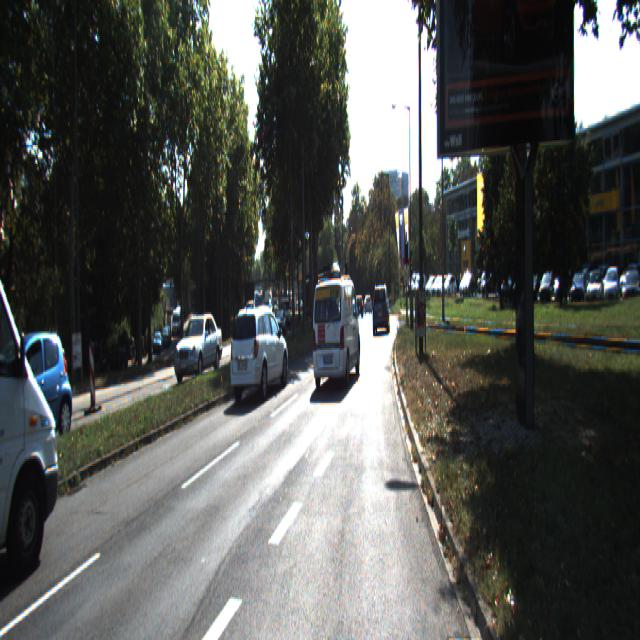Car: (0, 174, 58, 611), (0, 326, 74, 464), (229, 299, 289, 402), (311, 276, 362, 390), (172, 314, 222, 382), (308, 268, 342, 323), (372, 284, 390, 336), (255, 308, 274, 352)
